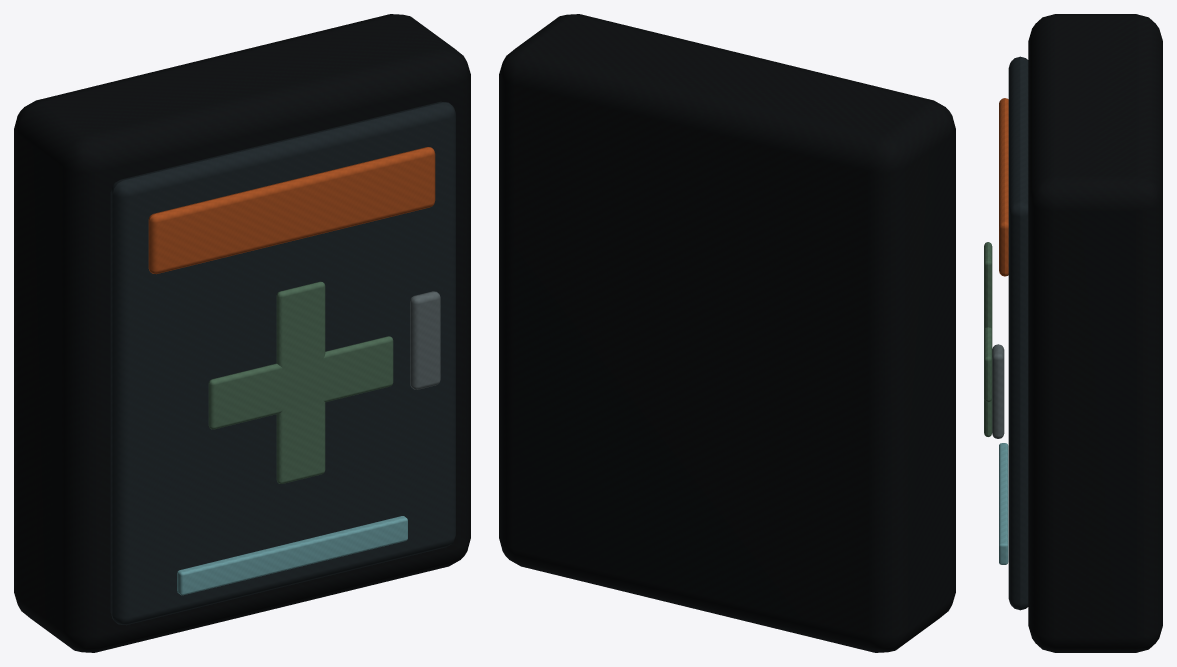
The model's file is FirstAidCase.fbx.
The picture shows the model from 3 angles, left to right: view 1: azimuth 30°, elevation 25°; view 2: azimuth 150°, elevation 25°; view 3: azimuth 270°, elevation 25°; orthographic projection. The views are drawn at different scales.
Visible parts, largest first — view 1: FirstAidCase_Mesh; view 2: FirstAidCase_Mesh; view 3: FirstAidCase_Mesh.
Part boxes in pixels (x1,y1,x2,y2): FirstAidCase_Mesh: (14,14,470,652); FirstAidCase_Mesh: (499,14,955,652); FirstAidCase_Mesh: (984,14,1162,652).
Bounding box in the file's own units: 64 × 78 × 26.6.
Materials: 6 (6 with a texture image).
